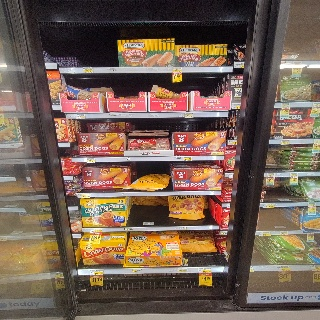All PRICE TAGS: (198, 267, 211, 273), (276, 266, 290, 271), (91, 270, 103, 275), (310, 265, 320, 271), (263, 203, 274, 208), (172, 67, 182, 72), (234, 63, 244, 68), (82, 67, 92, 72), (78, 194, 90, 198), (281, 139, 289, 145), (232, 103, 240, 109), (260, 232, 271, 236), (55, 273, 63, 278), (184, 113, 193, 117), (76, 114, 85, 118), (67, 114, 76, 118), (124, 227, 133, 231), (86, 159, 95, 163), (281, 103, 290, 107), (178, 268, 187, 272), (313, 102, 320, 107), (229, 140, 236, 145), (176, 227, 187, 230), (91, 229, 102, 232), (183, 157, 191, 161), (267, 173, 275, 177), (290, 173, 298, 177), (220, 231, 227, 235), (315, 139, 320, 144), (132, 269, 140, 272), (308, 203, 315, 206), (281, 232, 288, 235), (294, 62, 302, 64), (307, 232, 314, 234)
